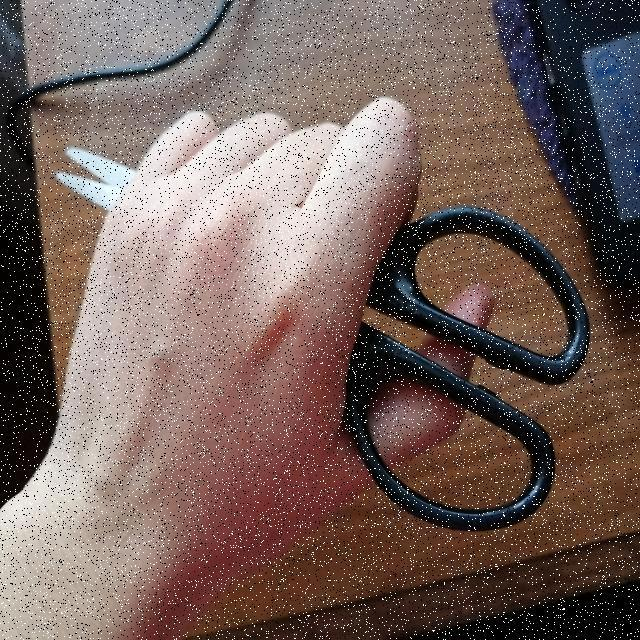scissors: (49, 122, 611, 540)
